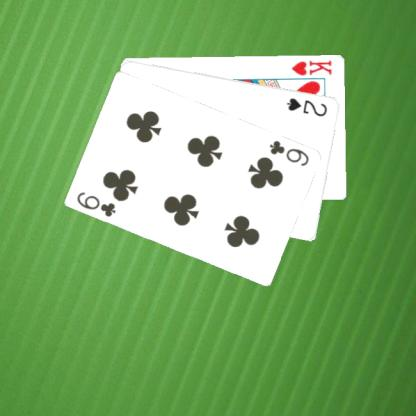2S: (283, 94, 329, 118)
6C: (267, 137, 311, 168), (74, 189, 118, 218)
KH: (288, 57, 334, 77)
